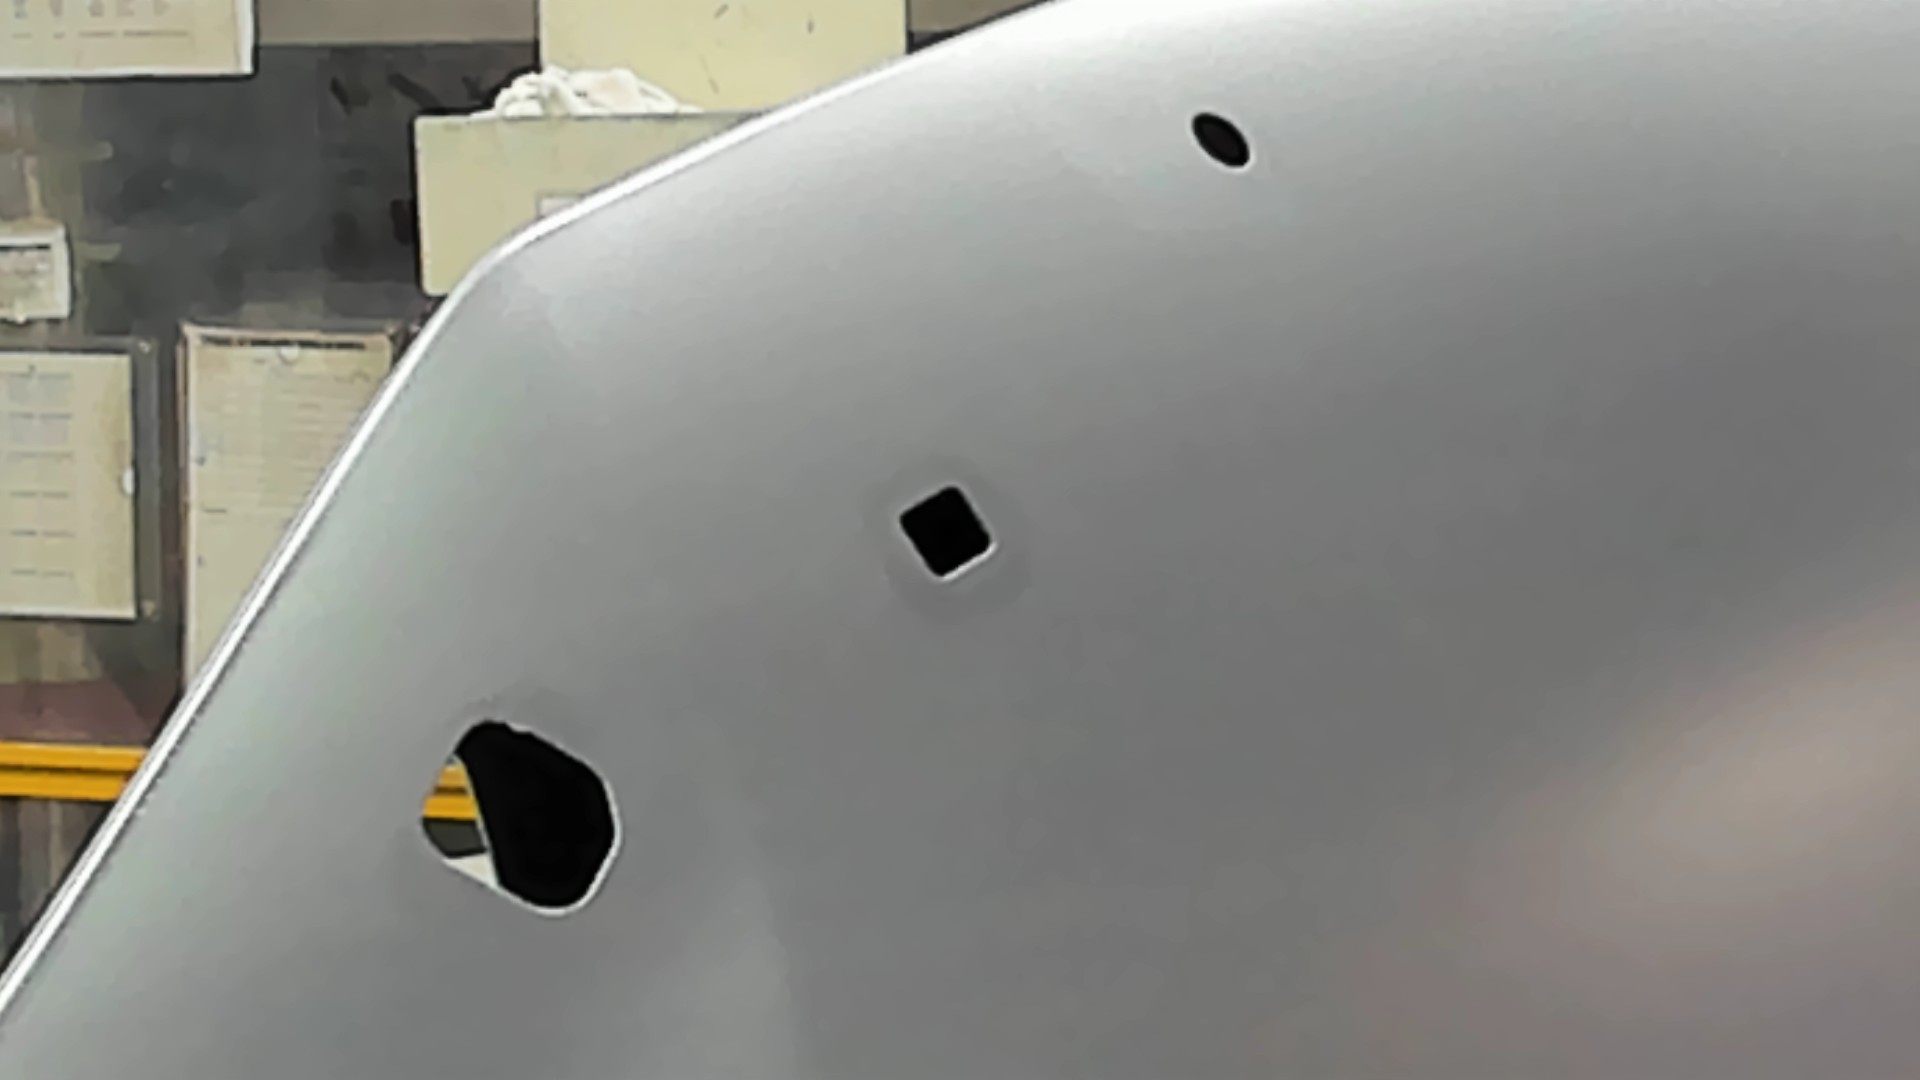chico: (1187, 107, 1253, 167)
grande: (415, 711, 626, 922)
mediano: (894, 483, 1004, 585)
